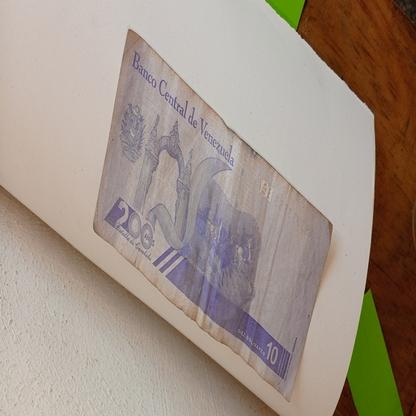ten-back-vef: (92, 27, 334, 402)
